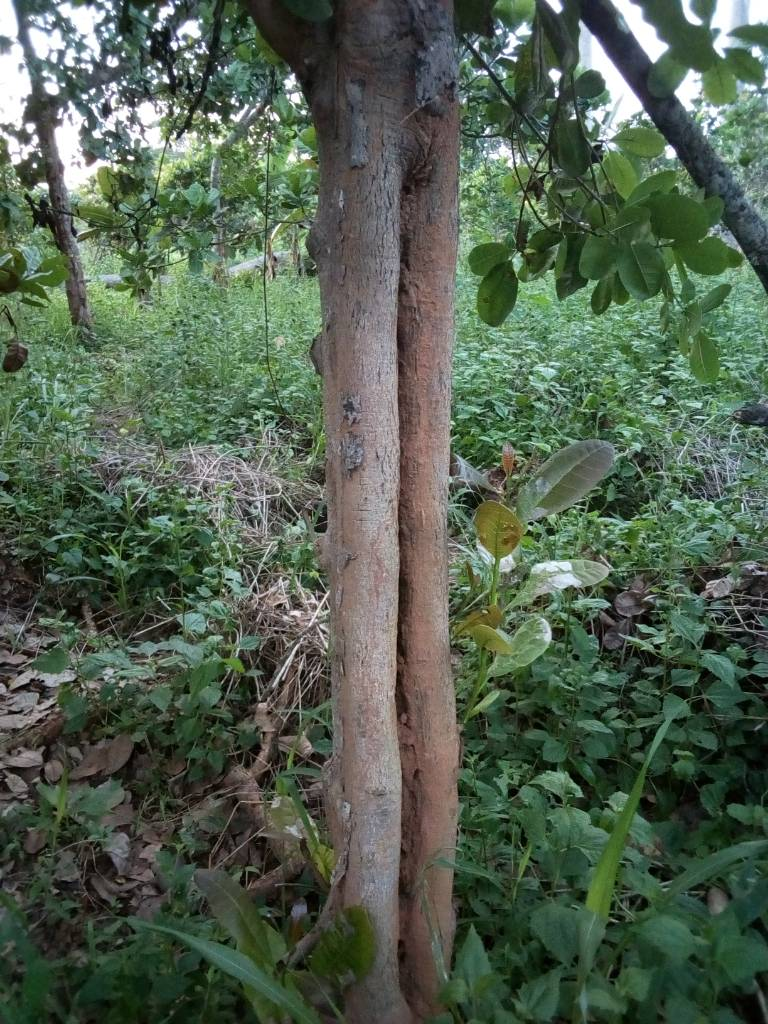Termites: (333, 100, 407, 897), (405, 110, 460, 947)
